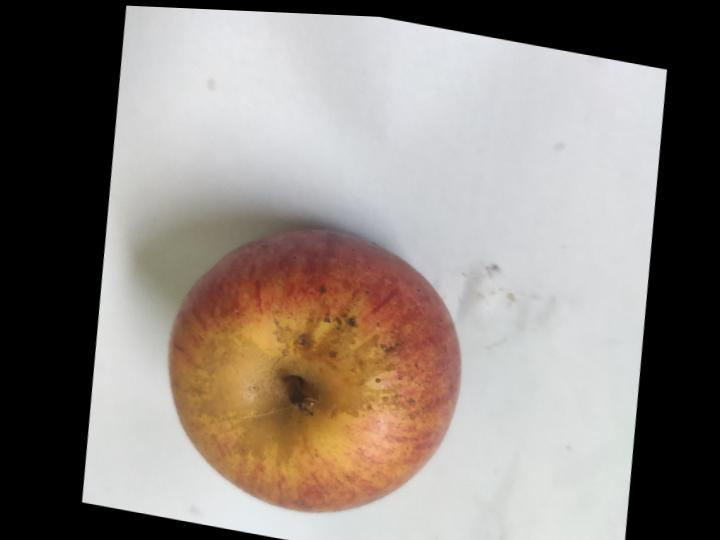apple: (168, 230, 459, 512)
bruise_discoloration: (183, 290, 408, 467)
